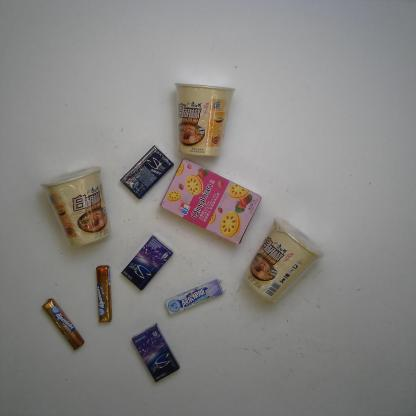Candy: (161, 278, 230, 318), (41, 296, 89, 351), (93, 263, 118, 325)
Dessert: (158, 156, 266, 247)
Gum: (119, 232, 177, 293), (128, 321, 183, 383), (117, 144, 175, 202)
Instant Noodles: (244, 215, 323, 306), (37, 162, 115, 253), (173, 78, 238, 163)
